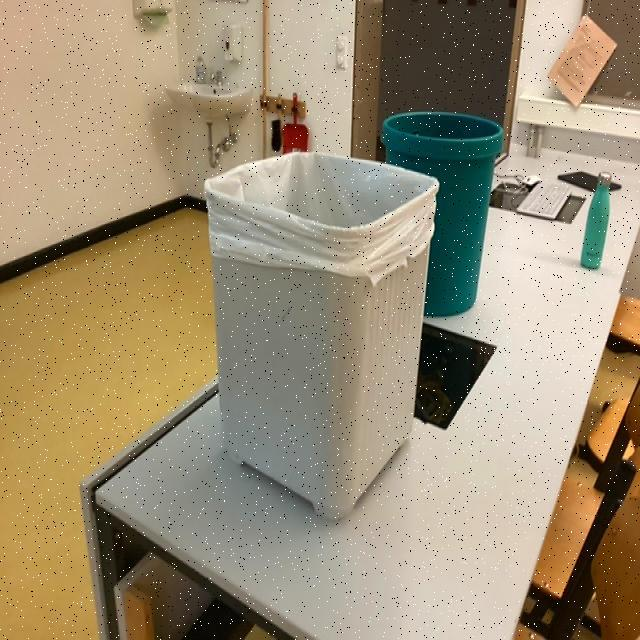garbage container: (176, 74, 440, 524)
